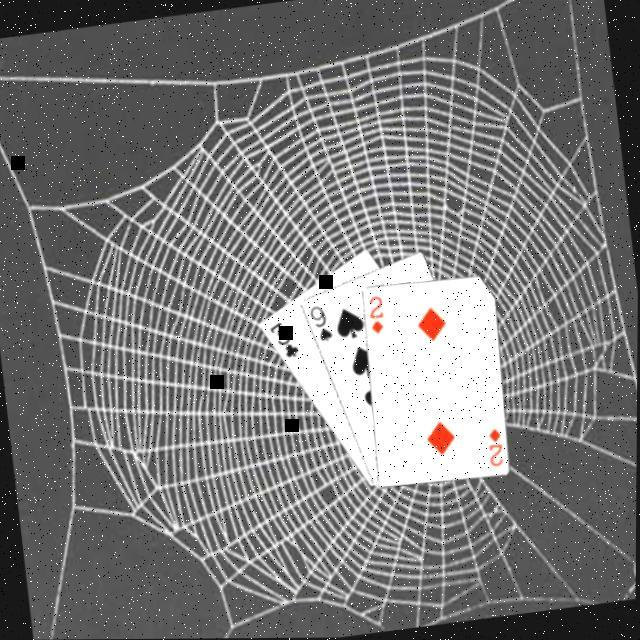2D: (484, 426, 510, 470), (364, 294, 389, 338)
3C: (266, 318, 302, 364)
9S: (306, 301, 336, 346)
